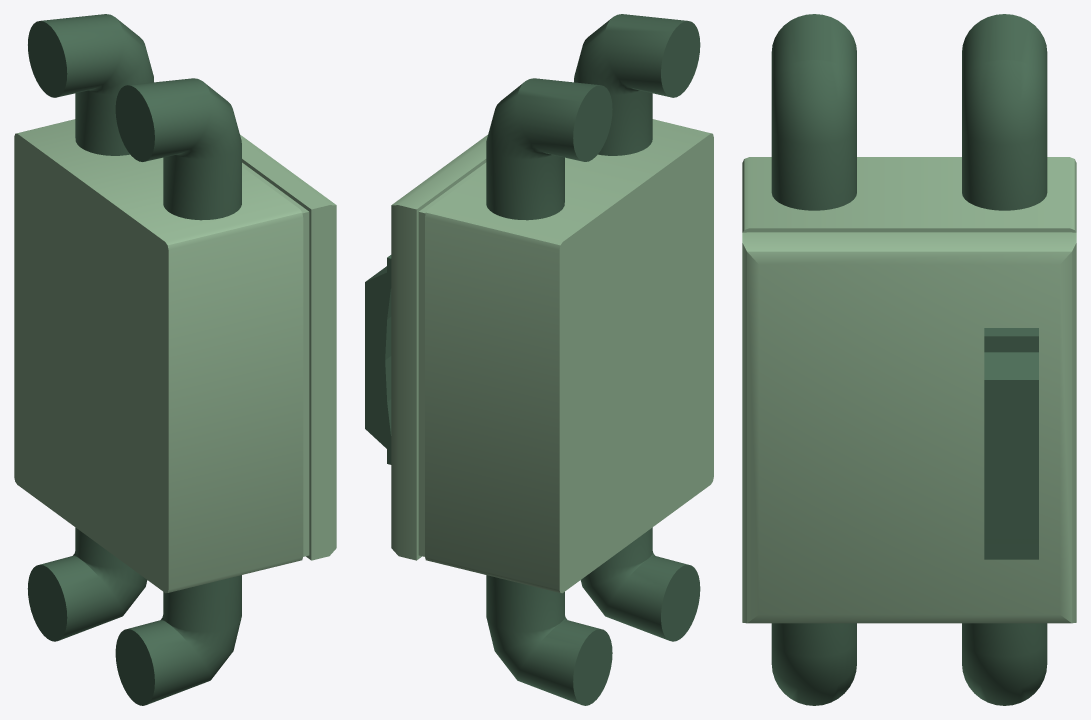
Rendered from Wall_Power.fbx.
3 views of the same model, side by side, from view 1: azimuth 30°, elevation 25°; view 2: azimuth 150°, elevation 25°; view 3: azimuth 270°, elevation 25° (orthographic). The views are drawn at different scales.
Parts seen in each view (by area): view 1: Wall_Power_Box; view 2: Wall_Power_Box; view 3: Wall_Power_Box.
Boxes of the visible parts, box(x1,y1,x2,y2) form: Wall_Power_Box: box(14, 14, 336, 705); Wall_Power_Box: box(365, 14, 713, 705); Wall_Power_Box: box(742, 14, 1076, 705).
Size of the model in its own units: 1.58 by 2 by 4.4.
